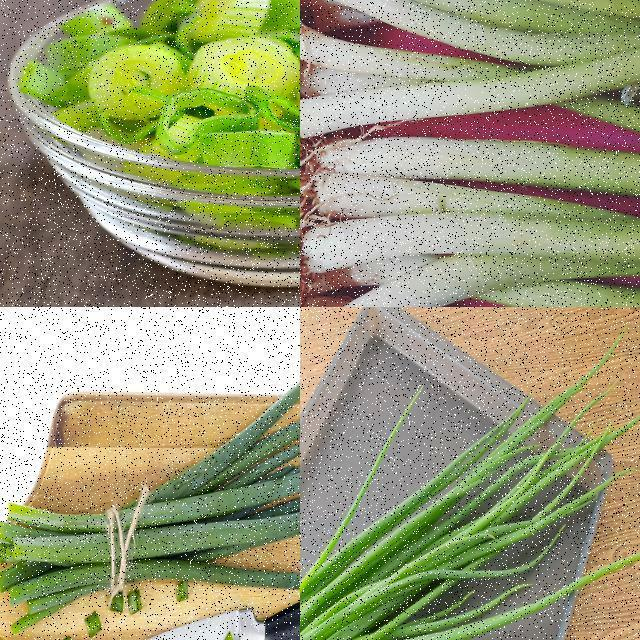green_onion: (301, 0, 640, 296)
